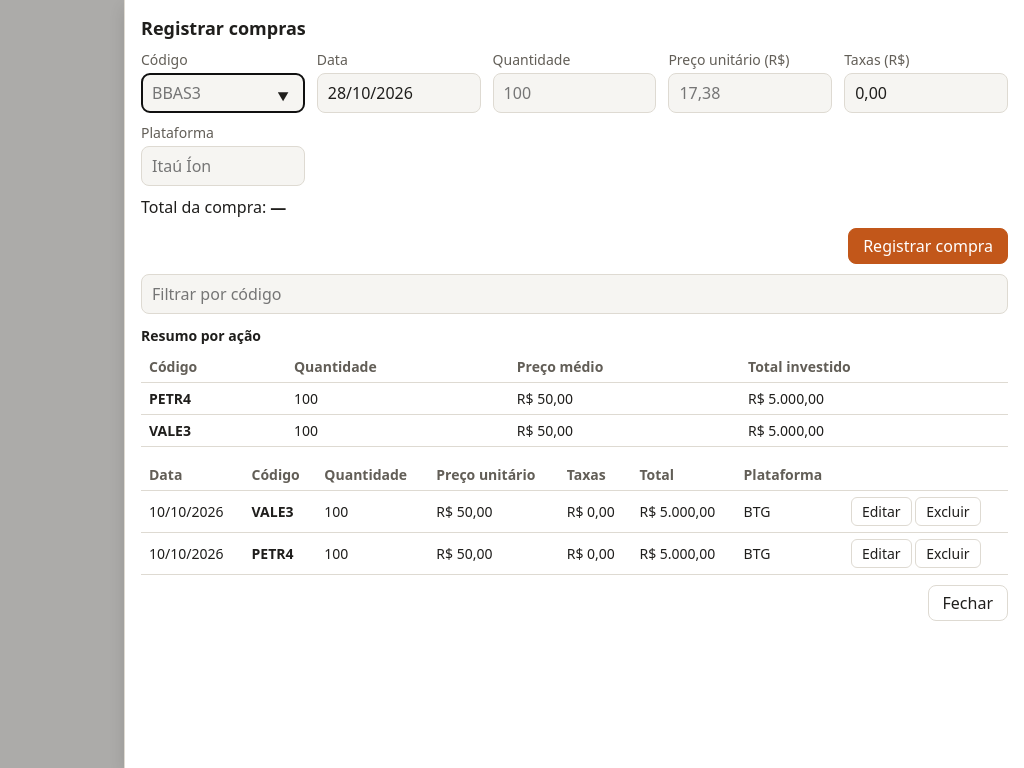
Test: RegistroCompras › editar compra que já não existe (404) sai da edição e avisa
Expected: the table named "Compras registradas" is shown, [141, 459, 1008, 575]
Click the button with aria-label "Editar a compra de VALE3" at (881, 512), box [851, 497, 912, 526]
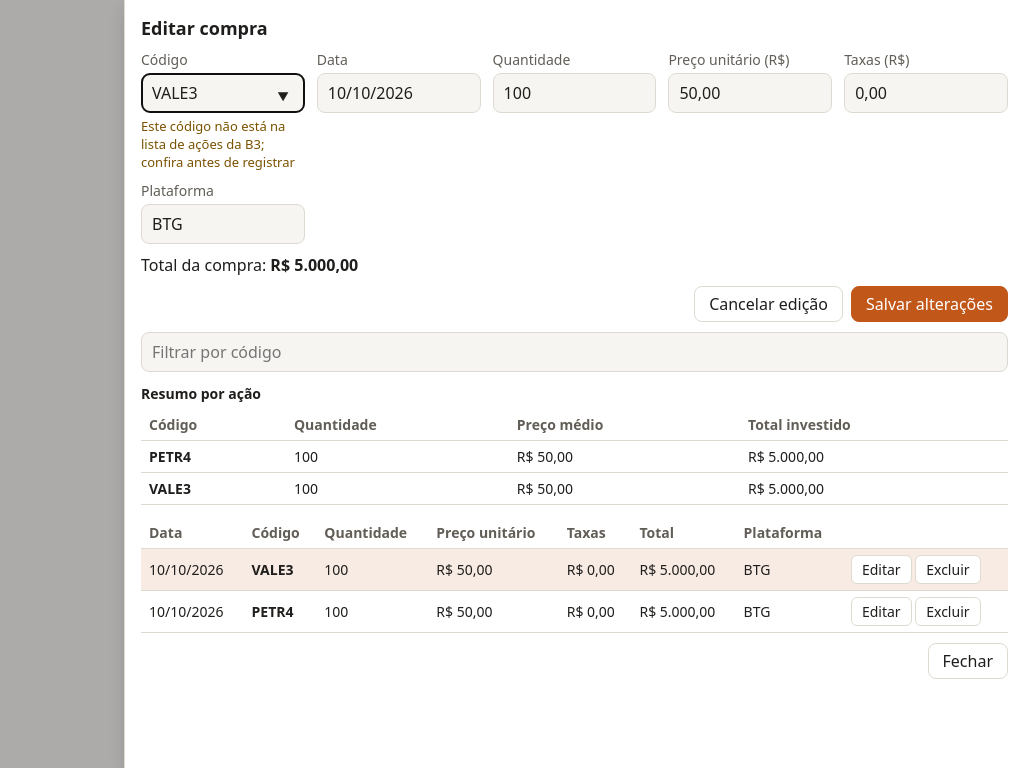
Click the button "Salvar alterações" at (930, 304), box [851, 286, 1008, 322]
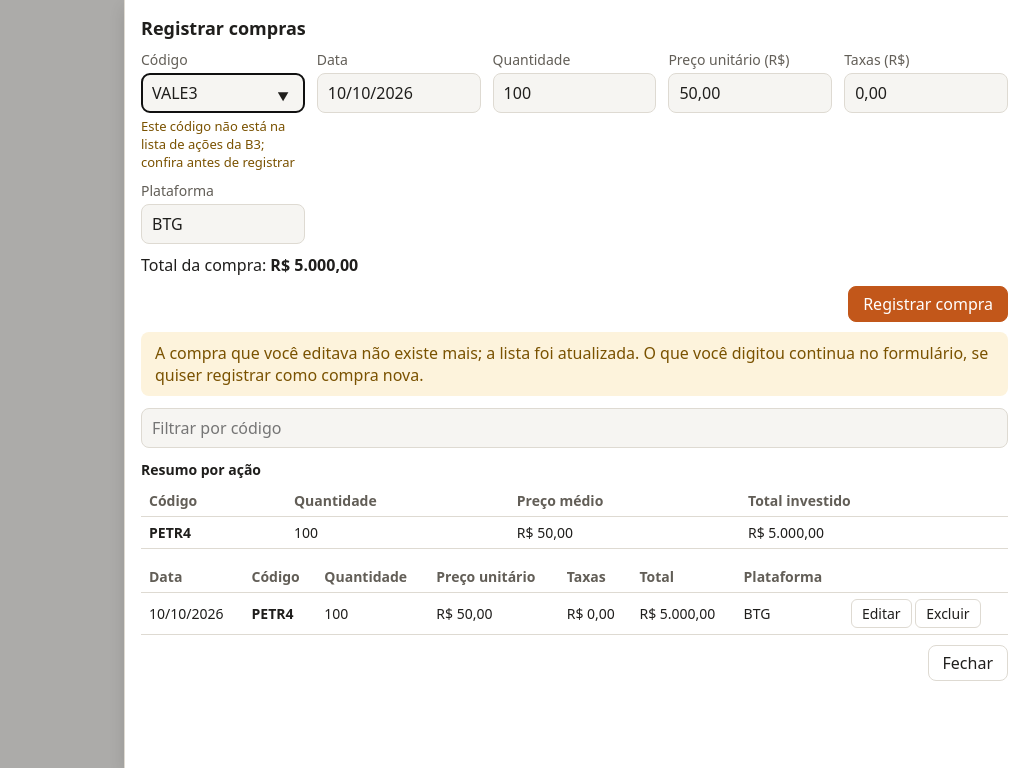
Now the text "A compra que você editava não existe mais" is shown, box [155, 342, 988, 386]
Now the dialog "Registrar compras" is shown
Now the button "Registrar compra" is shown, box [848, 286, 1008, 322]
